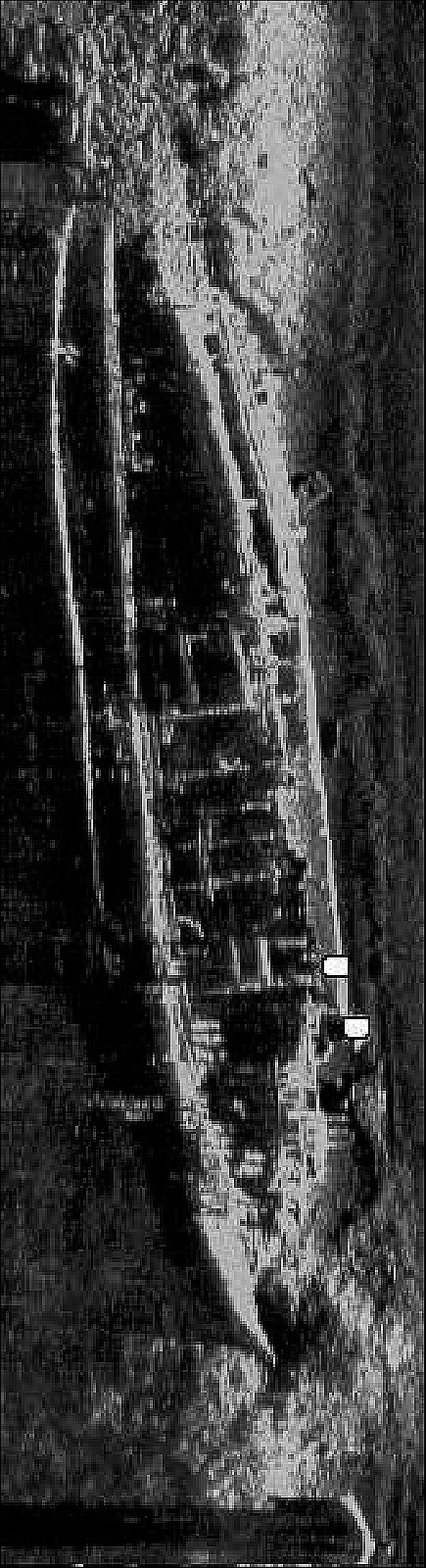ship: (45, 31, 392, 1376)
